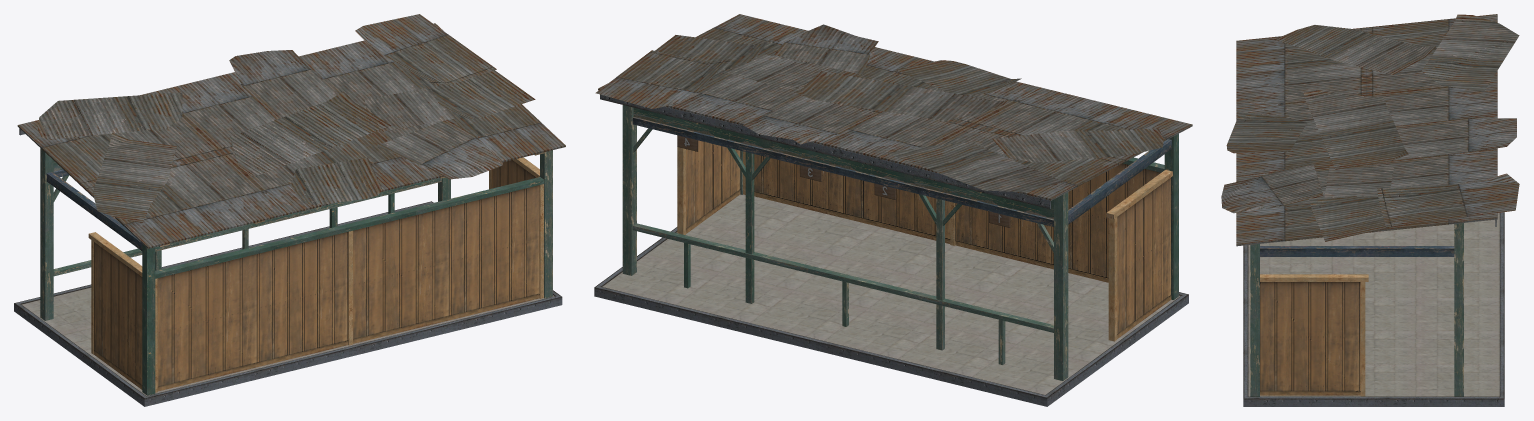
File: Building_BcTz01.glb
The picture shows the model from 3 angles, left to right: view 1: azimuth 30°, elevation 25°; view 2: azimuth 150°, elevation 25°; view 3: azimuth 270°, elevation 25°; orthographic projection. The views are drawn at different scales.
Parts seen in each view (by area): view 1: xiutz_bc_tz_01_0; view 2: xiutz_bc_tz_01_0; view 3: xiutz_bc_tz_01_0.
Part boxes in pixels (x1,y1,x2,y2): xiutz_bc_tz_01_0: [14, 14, 565, 406]; xiutz_bc_tz_01_0: [594, 14, 1192, 406]; xiutz_bc_tz_01_0: [1221, 14, 1519, 406].
Bounding box in the file's own units: 14.01 × 5.93 × 8.15.
2 materials, 2 textured.
